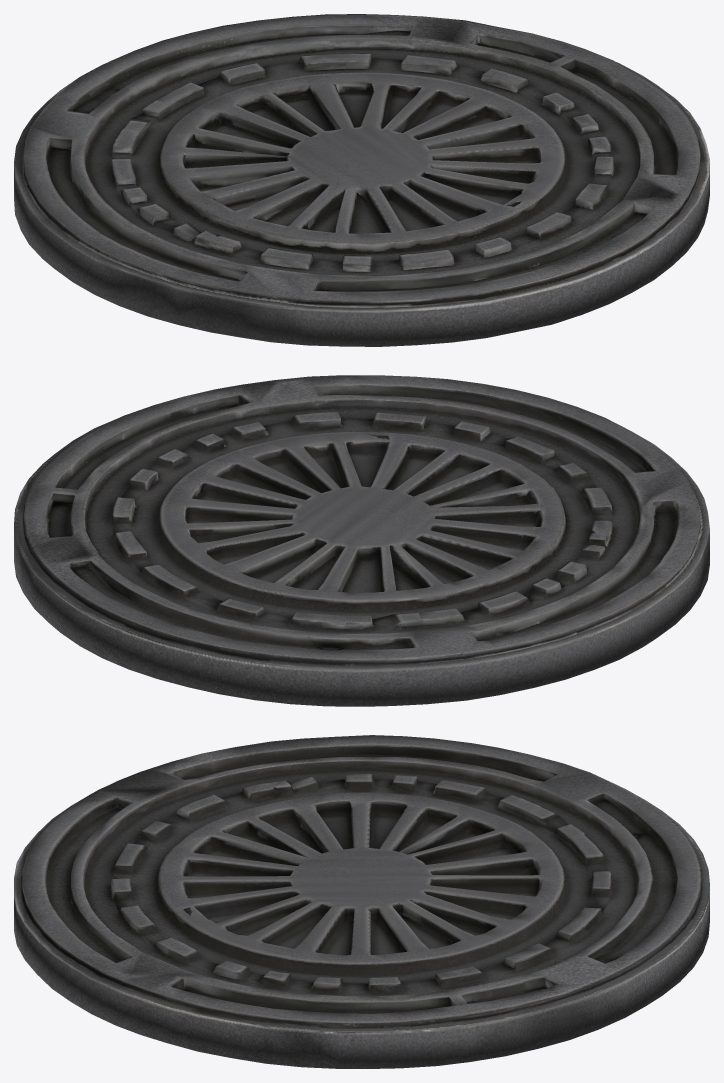
The model's file is tripo_convert_5c702779-7e2c-40f1-8f4f-b3c437f78809.fbx.
3 views of the same model, one above another, from view 1: azimuth 30°, elevation 25°; view 2: azimuth 150°, elevation 25°; view 3: azimuth 270°, elevation 25° (orthographic).
Parts seen in each view (by area): view 1: tripo_node_5c702779; view 2: tripo_node_5c702779; view 3: tripo_node_5c702779.
Boxes of the visible parts, bbox=[...] form: tripo_node_5c702779: bbox=[14, 14, 709, 346]; tripo_node_5c702779: bbox=[14, 375, 709, 706]; tripo_node_5c702779: bbox=[14, 735, 709, 1068].
Size of the model in its own units: 0.998 by 0.0723 by 0.998.
Materials: 1 (1 with a texture image).
